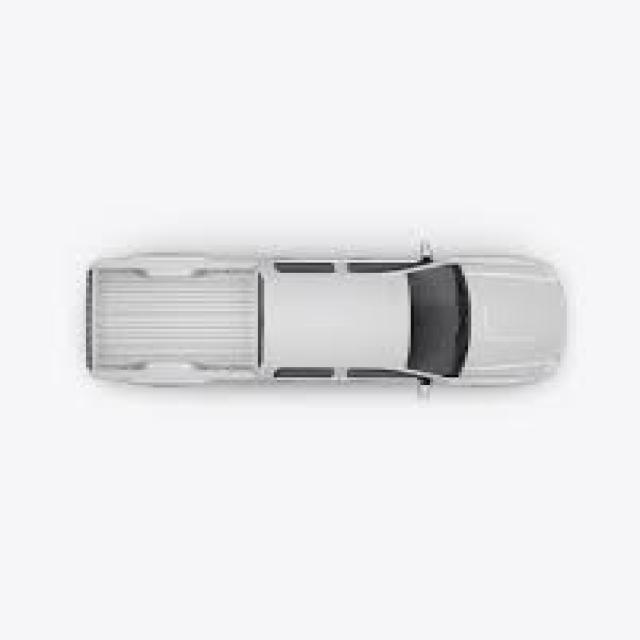truck: (87, 253, 570, 384)
